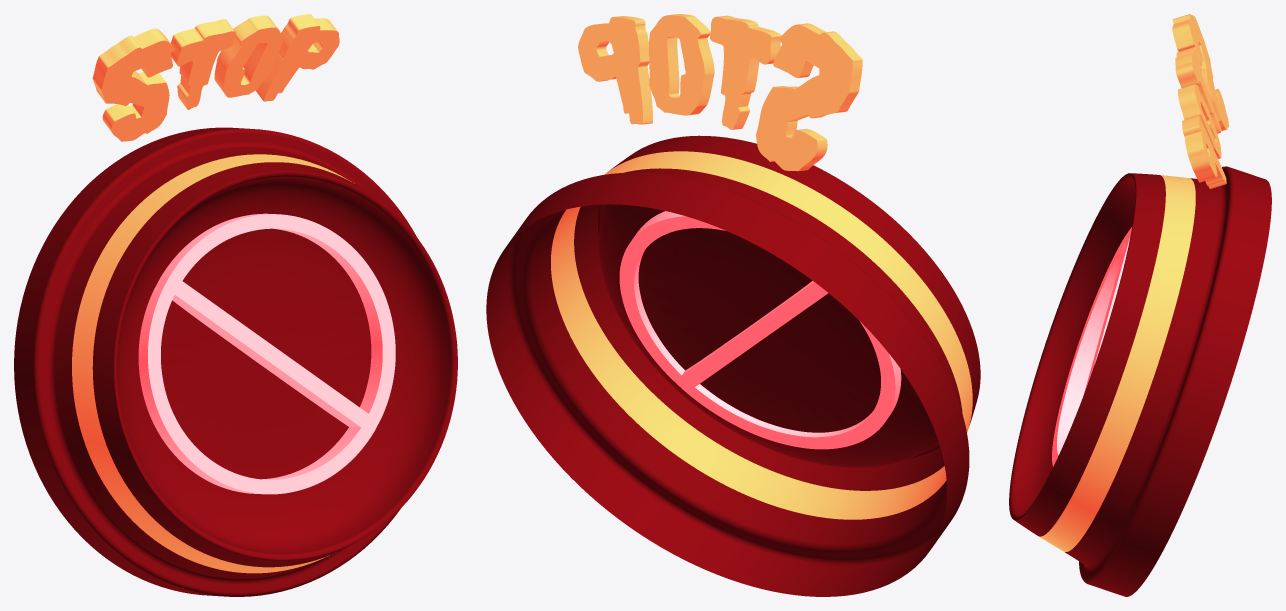
Rendered from stop1.glb.
3 views of the same model, side by side, from view 1: azimuth 30°, elevation 25°; view 2: azimuth 150°, elevation 25°; view 3: azimuth 270°, elevation 25° (orthographic). The views are drawn at different scales.
Visible parts, largest first — view 1: Stop; view 2: Stop; view 3: Stop.
Part boxes in pixels (left/top/right/bottom): Stop: left=14, top=14, right=457, bottom=596; Stop: left=486, top=14, right=980, bottom=596; Stop: left=1009, top=14, right=1271, bottom=596.
Bounding box in the file's own units: 1.99 × 2.58 × 1.19.
